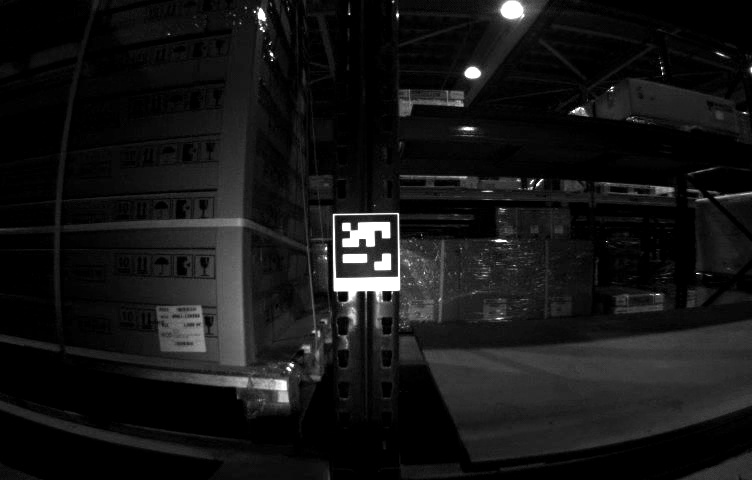True Barcode: (157, 306, 206, 352)
